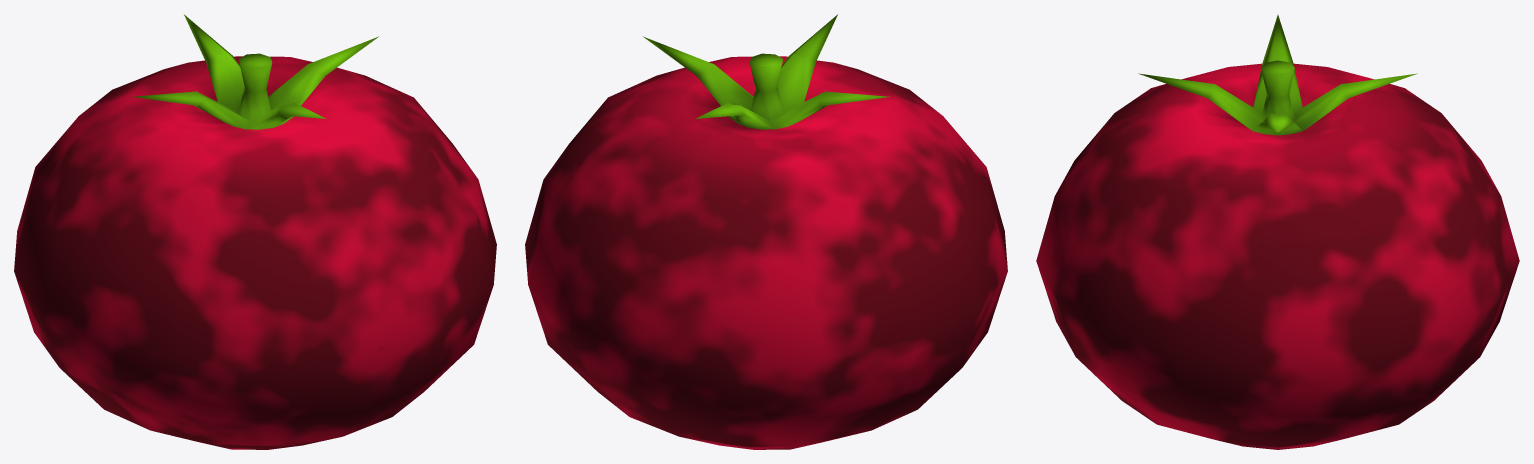
Rendered from PomodoroBad.fbx.
The picture shows the model from 3 angles, left to right: view 1: azimuth 30°, elevation 25°; view 2: azimuth 150°, elevation 25°; view 3: azimuth 270°, elevation 25°; orthographic projection. The views are drawn at different scales.
Visible parts, largest first — view 1: Sphere; view 2: Sphere; view 3: Sphere.
Part boxes in pixels (x1,y1,x2,y2): Sphere: [14, 14, 496, 449]; Sphere: [525, 14, 1007, 449]; Sphere: [1036, 15, 1519, 449].
Size of the model in its own units: 265 by 215 by 265.
